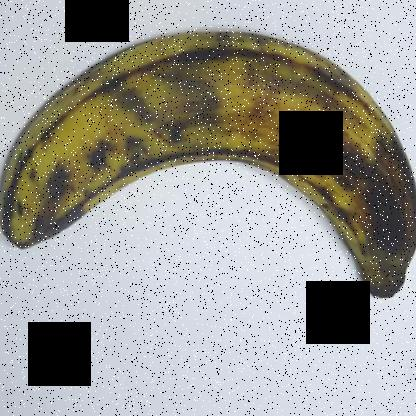overripe: (0, 13, 415, 312)
